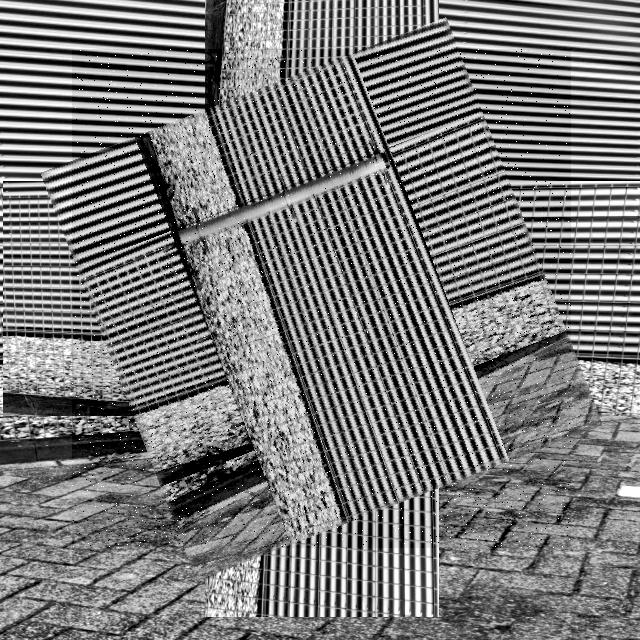fences: (72, 49, 571, 548)
